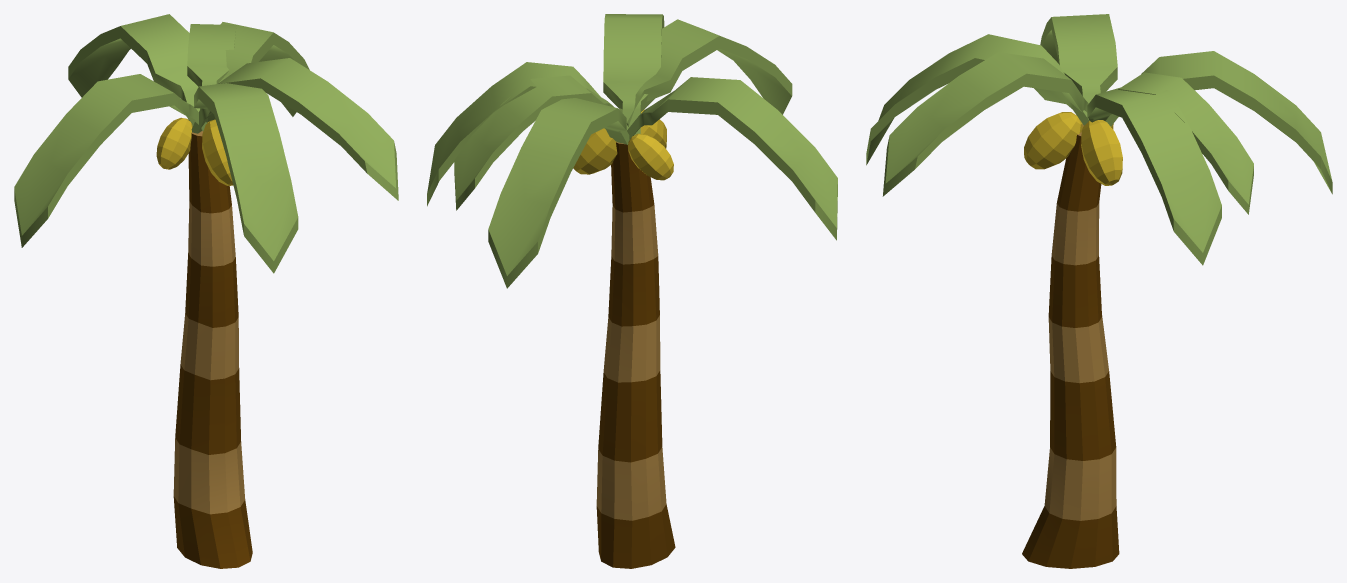
File: tree1.fbx
3 views of the same model, side by side, from view 1: azimuth 30°, elevation 25°; view 2: azimuth 150°, elevation 25°; view 3: azimuth 270°, elevation 25° (orthographic). The views are drawn at different scales.
Visible parts, largest first — view 1: group2_pasted__pCube1; view 2: group2_pasted__pCube1; view 3: group2_pasted__pCube1.
Boxes of the visible parts, x1=… form: group2_pasted__pCube1: x1=14, y1=14, x2=398, y2=568; group2_pasted__pCube1: x1=427, y1=14, x2=837, y2=568; group2_pasted__pCube1: x1=866, y1=14, x2=1332, y2=568.
Bounding box in the file's own units: 29.01 × 39.89 × 33.22.
